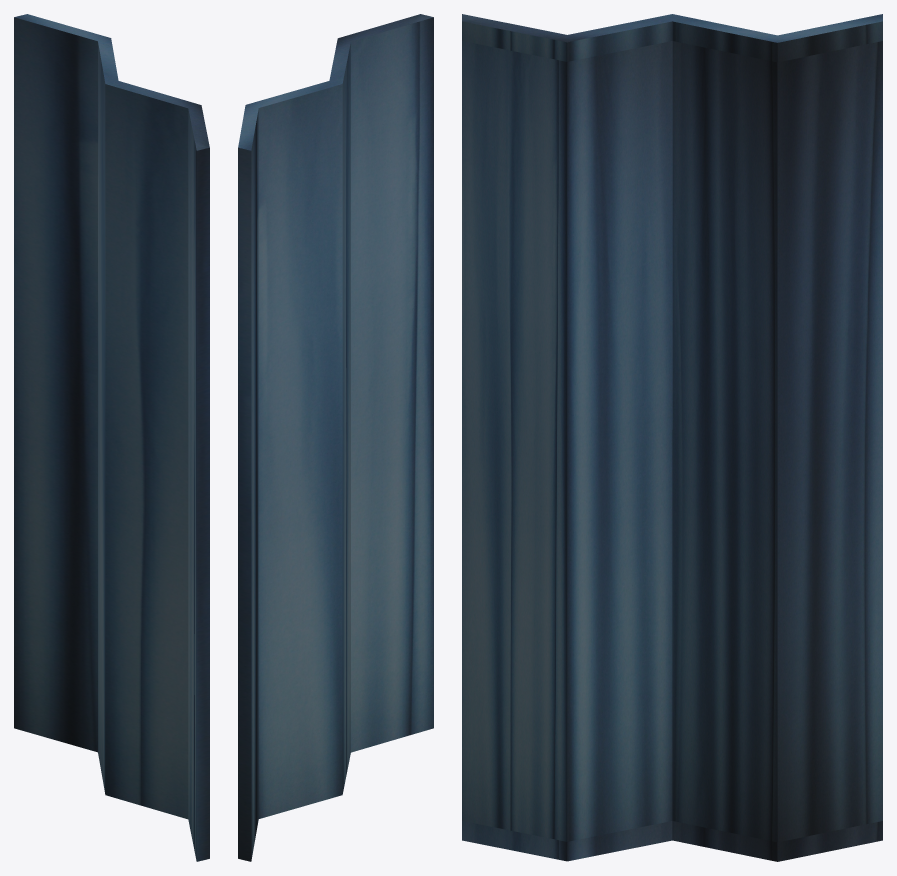
The model's file is шторы.fbx.
3 renders of one model, left to right at view 1: azimuth 30°, elevation 25°; view 2: azimuth 150°, elevation 25°; view 3: azimuth 270°, elevation 25°, orthographic. The views are drawn at different scales.
Parts seen in each view (by area): view 1: Cube; view 2: Cube; view 3: Cube.
Part boxes in pixels (x1=…): Cube: x1=14, y1=14, x2=209, y2=861; Cube: x1=238, y1=14, x2=433, y2=861; Cube: x1=462, y1=14, x2=882, y2=861.
Bounding box in the file's own units: 36.43 × 481 × 224.
1 material, 1 textured.
